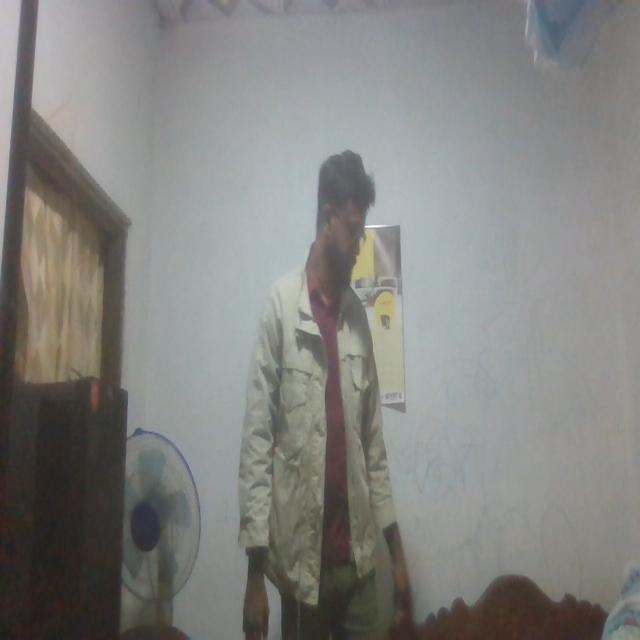Jacket_Wearer: (240, 269, 404, 582)
Person: (242, 131, 407, 640)
